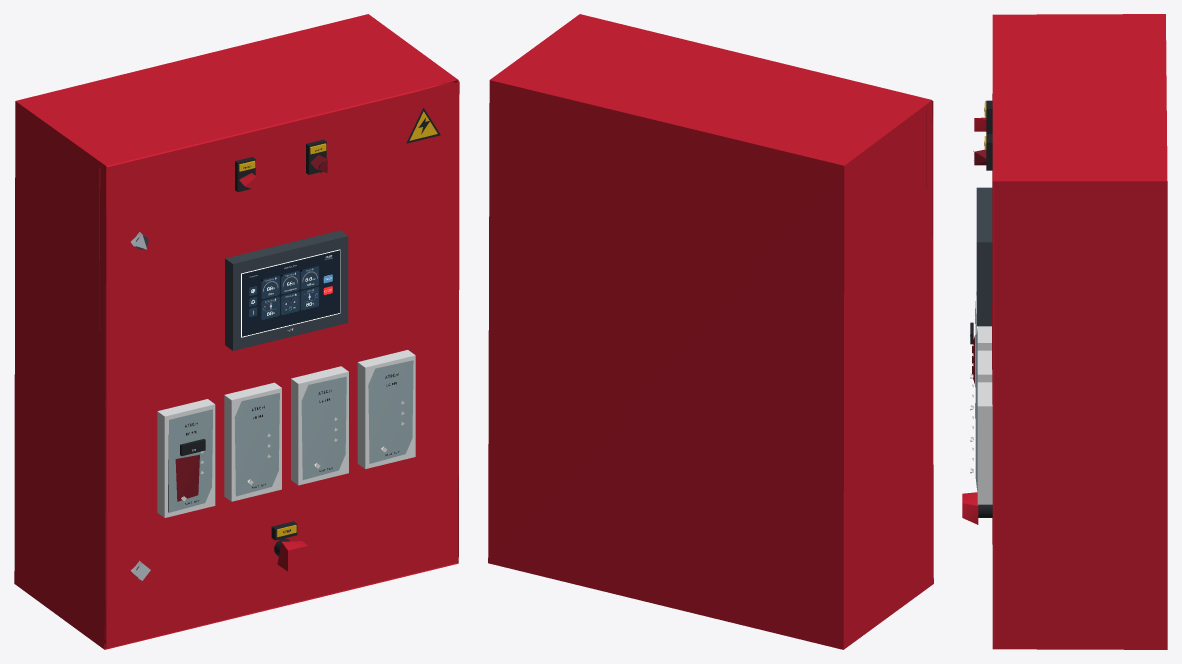
Rendered from cabinet-comfort.glb.
3 views of the same model, side by side, from view 1: azimuth 30°, elevation 25°; view 2: azimuth 150°, elevation 25°; view 3: azimuth 270°, elevation 25° (orthographic). The views are drawn at different scales.
Visible parts, largest first — view 1: comfort_door, comfort_body; view 2: comfort_body; view 3: comfort_body, comfort_door.
Boxes of the visible parts, bbox=[...] form: comfort_door: bbox=[105, 81, 459, 648]; comfort_body: bbox=[14, 14, 458, 649]; comfort_body: bbox=[488, 14, 933, 649]; comfort_body: bbox=[992, 14, 1167, 649]; comfort_door: bbox=[962, 94, 992, 544].
Bounding box in the file's own units: 0.5 × 0.65 × 0.258.
11 materials, 1 textured.
